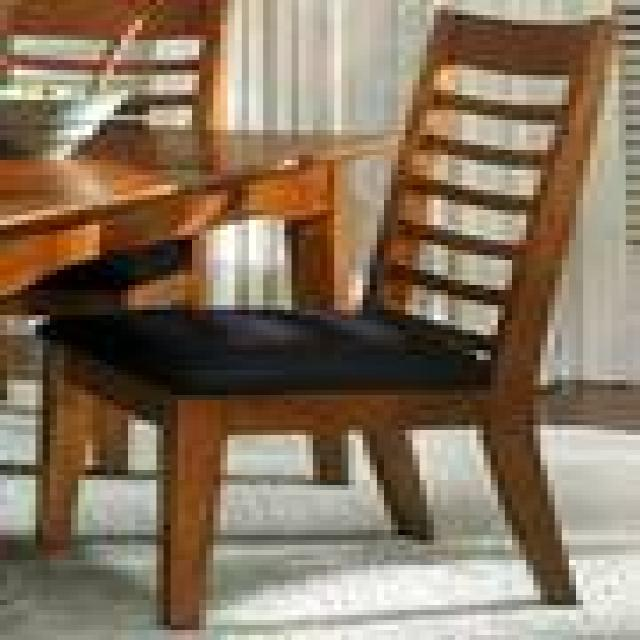chair: (30, 5, 617, 640)
